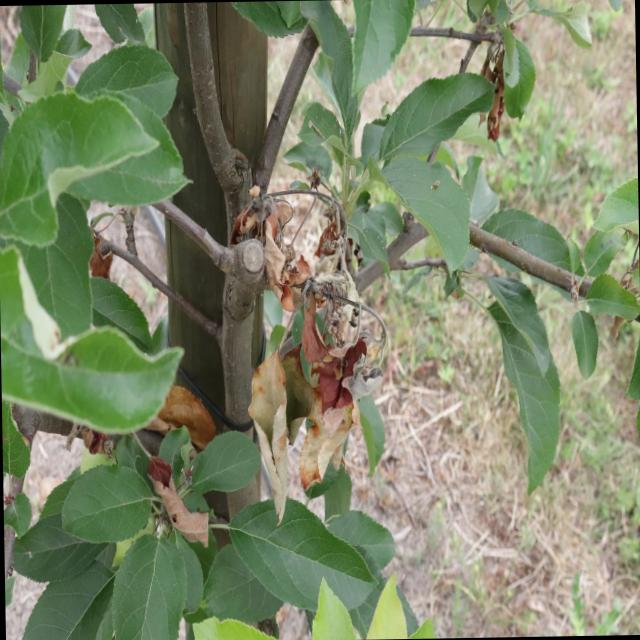-FireBlight-: (319, 200, 372, 416), (235, 346, 287, 529), (139, 452, 218, 540), (301, 343, 339, 483), (142, 371, 220, 438), (256, 198, 304, 306), (466, 45, 506, 146), (302, 286, 325, 369), (82, 232, 110, 280)
